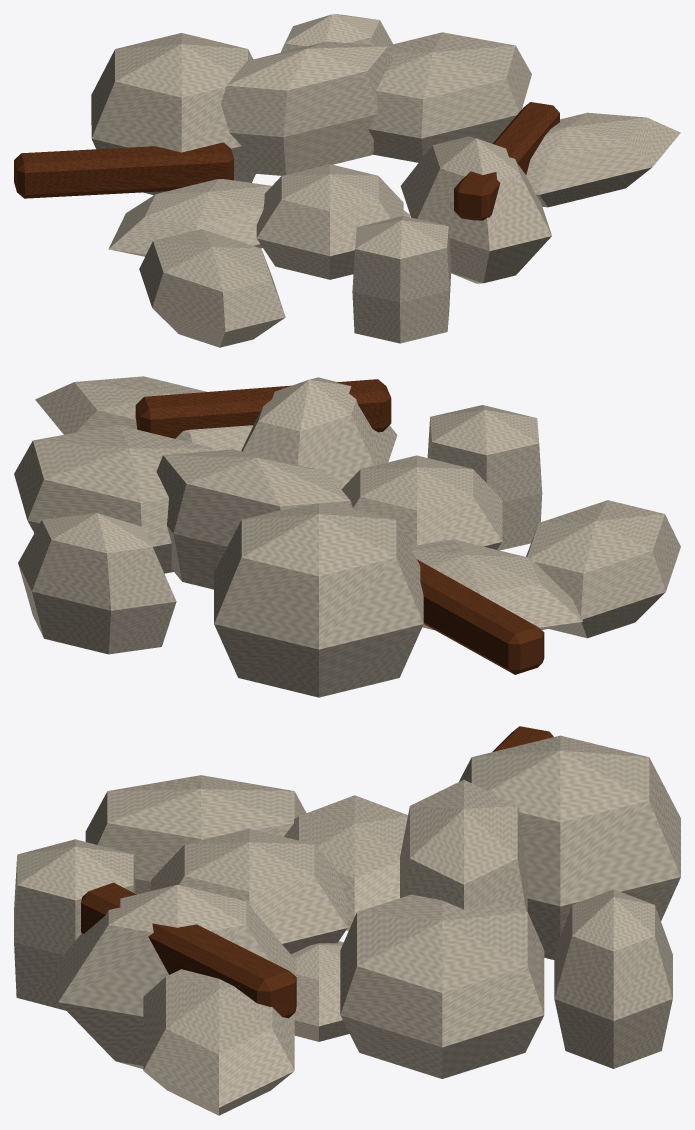
Rendered from stone-rubble-pile.glb.
3 views of the same model, one above another, from view 1: azimuth 30°, elevation 25°; view 2: azimuth 150°, elevation 25°; view 3: azimuth 270°, elevation 25° (orthographic). The views are drawn at different scales.
Parts seen in each view (by area): view 1: stone-rubble-pile; view 2: stone-rubble-pile; view 3: stone-rubble-pile.
Part boxes in pixels (<box>): stone-rubble-pile: <box>14,14,680,347</box>; stone-rubble-pile: <box>14,376,680,697</box>; stone-rubble-pile: <box>14,726,680,1115</box>.
Size of the model in its own units: 2.61 by 0.7799 by 2.05.
Materials: 2 (2 with a texture image).
